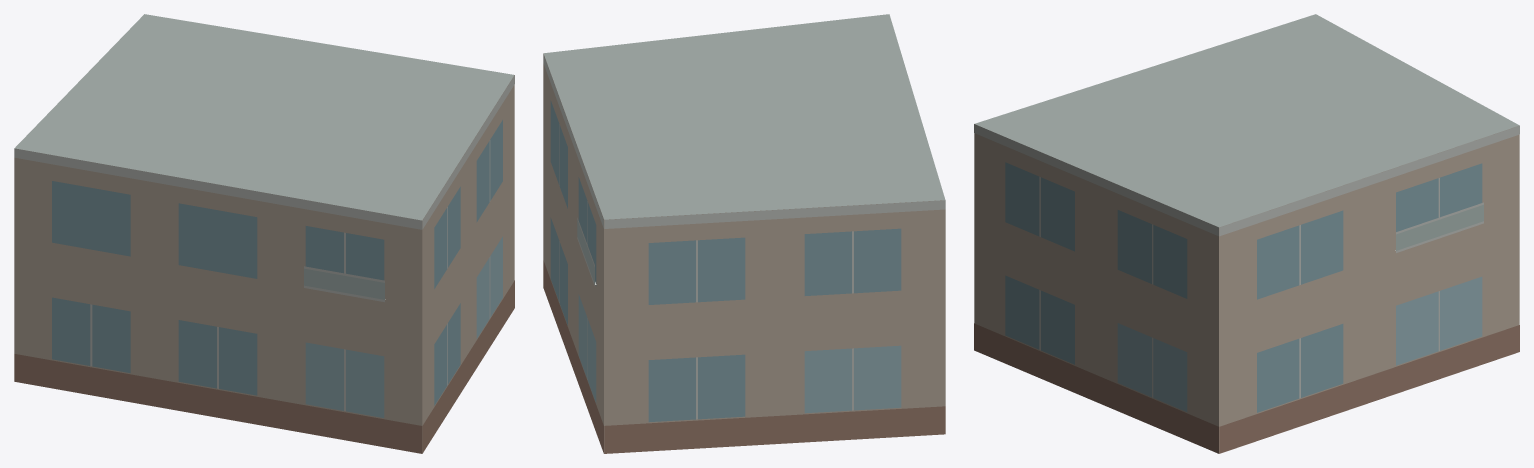
File: survey-upis-32640326.glb
The picture shows the model from 3 angles, left to right: view 1: azimuth 30°, elevation 25°; view 2: azimuth 150°, elevation 25°; view 3: azimuth 270°, elevation 25°; orthographic projection. The views are drawn at different scales.
Visible parts, largest first — view 1: survey-upis-32640326.tmp; view 2: survey-upis-32640326.tmp; view 3: survey-upis-32640326.tmp.
Part boxes in pixels (box(x1,y1,x2,y2)): survey-upis-32640326.tmp: box(14, 14, 514, 453); survey-upis-32640326.tmp: box(543, 14, 945, 453); survey-upis-32640326.tmp: box(974, 14, 1519, 453).
Bounding box in the file's own units: 12.34 × 6.1 × 13.33.
